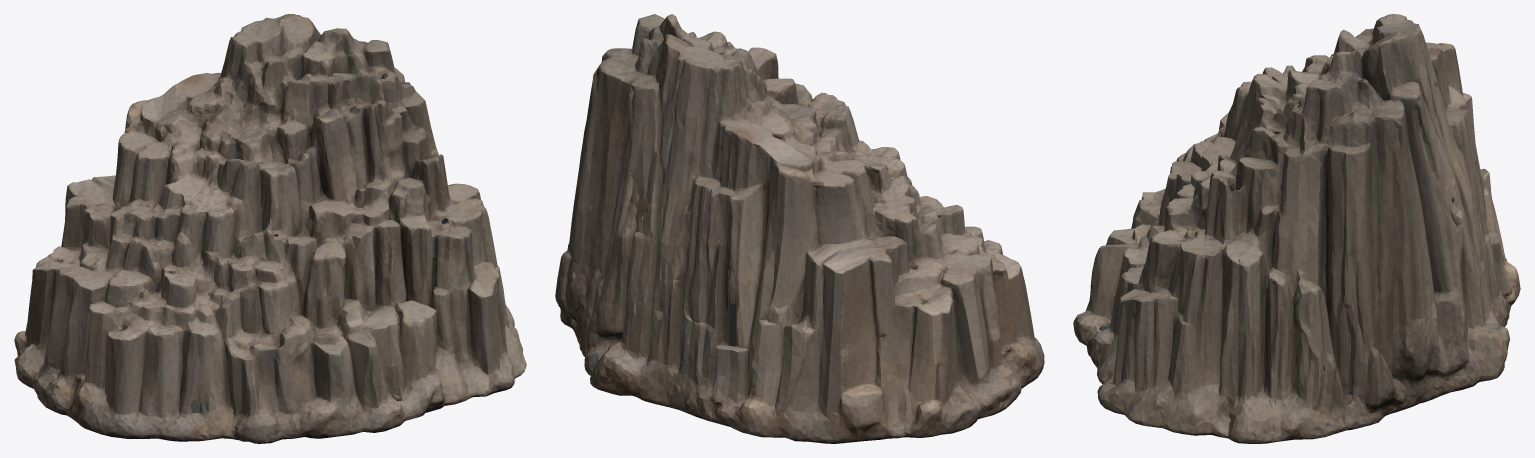
3 views of the same model, side by side, from view 1: azimuth 30°, elevation 25°; view 2: azimuth 150°, elevation 25°; view 3: azimuth 270°, elevation 25° (orthographic). The views are drawn at different scales.
Visible parts, largest first — view 1: world; view 2: world; view 3: world.
Boxes of the visible parts, box(x1,y1,x2,y2) form: world: box(14, 14, 526, 443); world: box(555, 14, 1044, 443); world: box(1073, 14, 1520, 443).
Bounding box in the file's own units: 1 × 0.6634 × 0.8098.
Materials: 1 (1 with a texture image).
